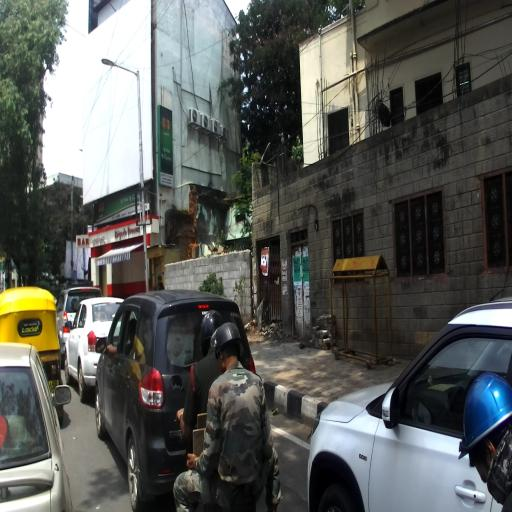street_light_0: (101, 56, 140, 77)
